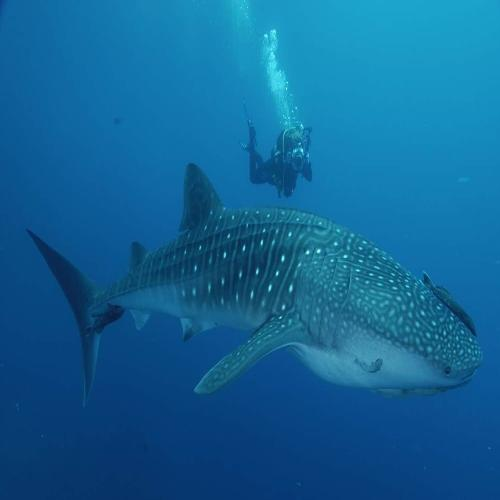shark-endangered: (26, 168, 485, 399)
